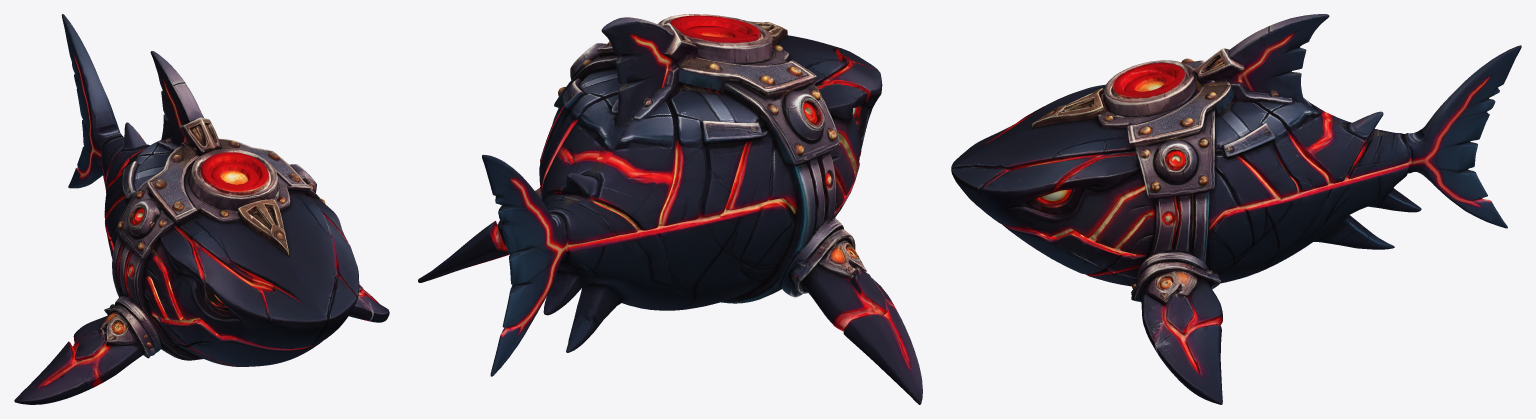
File: Metal Shark.glb
The picture shows the model from 3 angles, left to right: view 1: azimuth 30°, elevation 25°; view 2: azimuth 150°, elevation 25°; view 3: azimuth 270°, elevation 25°; orthographic projection. The views are drawn at different scales.
Size of the model in its own units: 1.55 by 1.07 by 1.9.
1 material, 1 textured.
